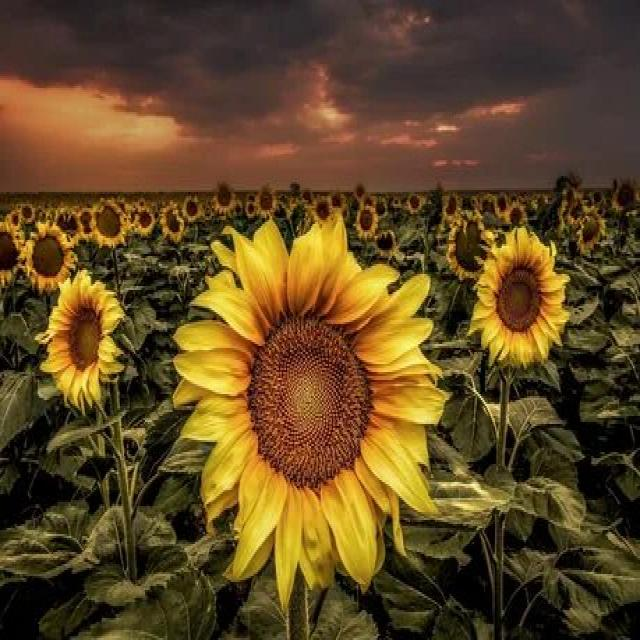sunflower: (163, 208, 453, 598), (470, 232, 572, 372), (38, 266, 128, 422), (21, 222, 81, 290), (85, 194, 128, 256), (210, 176, 238, 218), (356, 196, 379, 244), (254, 184, 279, 220), (180, 196, 203, 224)
